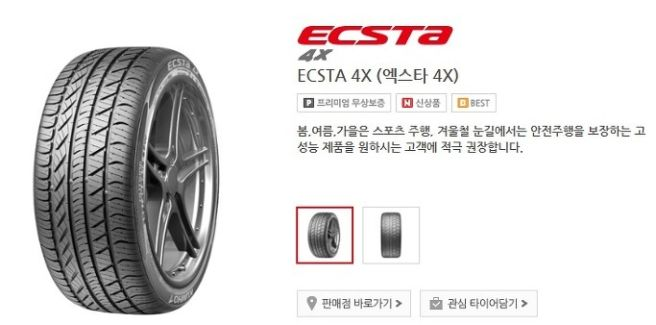new_condition: (33, 46, 218, 320)
